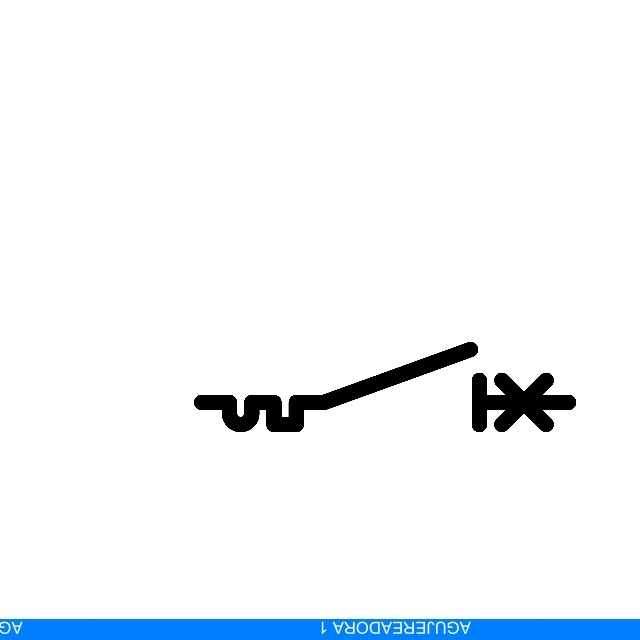interruptor_termomagnetico: (192, 340, 578, 434)
